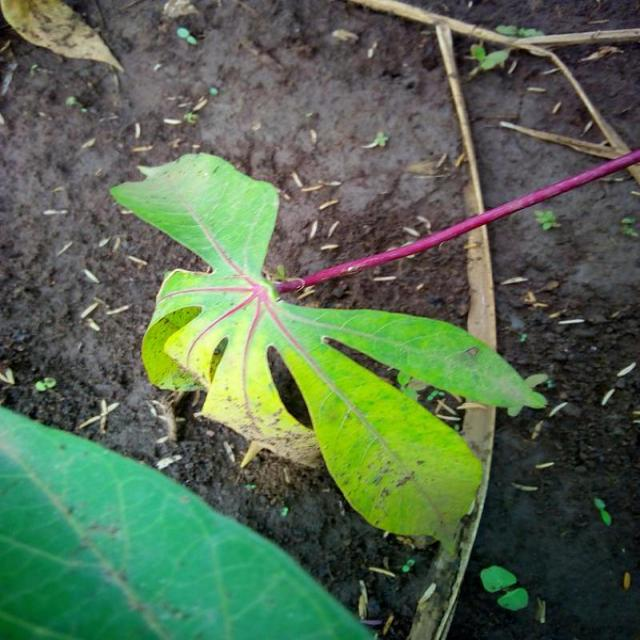cassava leaf: (110, 148, 548, 554), (2, 404, 379, 638)
